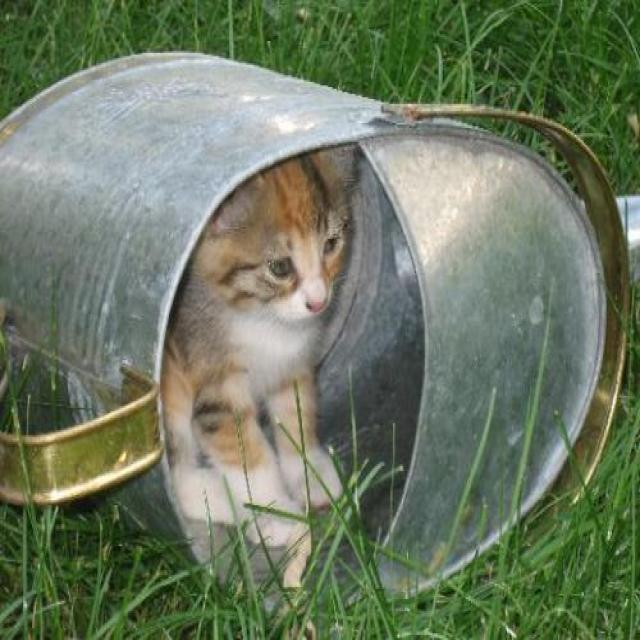Cat: (159, 143, 361, 613)
